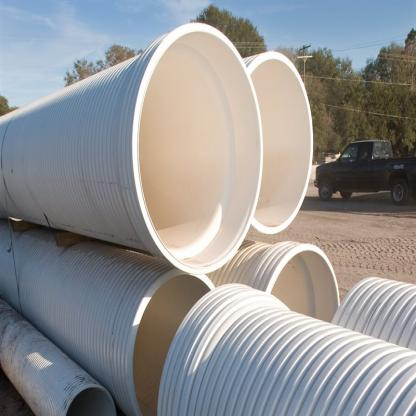PVC: (1, 1, 416, 416), (1, 2, 416, 416), (155, 353, 416, 383)
